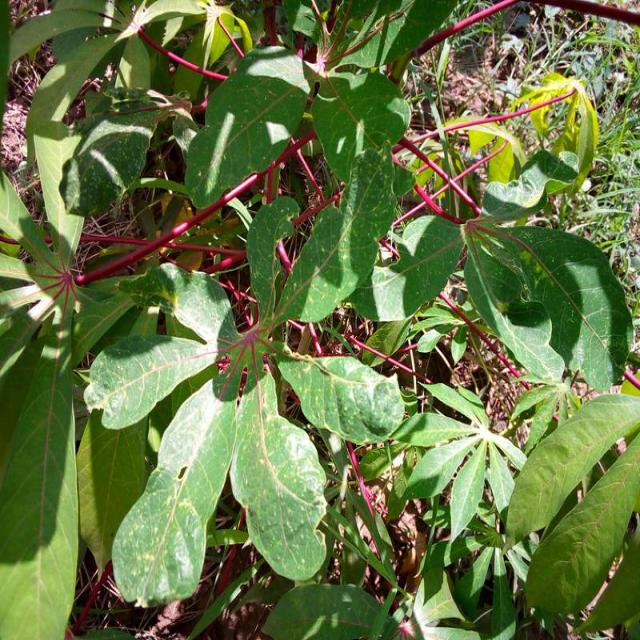cassava leaf: (2, 1, 638, 636), (111, 375, 239, 607), (465, 222, 634, 390), (184, 44, 311, 210), (230, 369, 328, 581)
